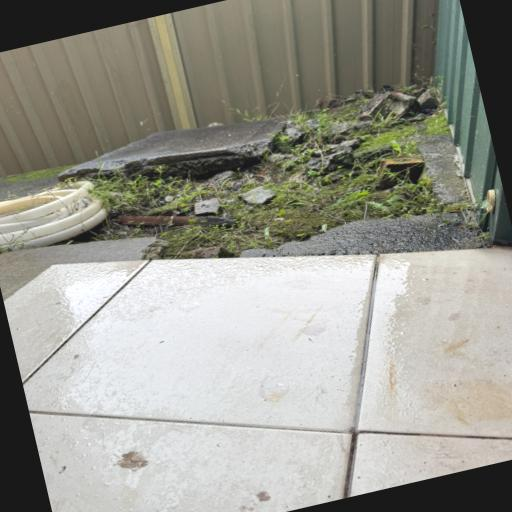gap: (52, 179, 490, 265)
